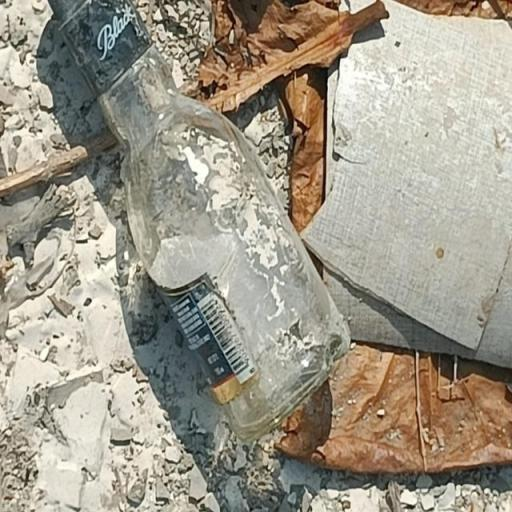glass: (36, 0, 358, 457)
